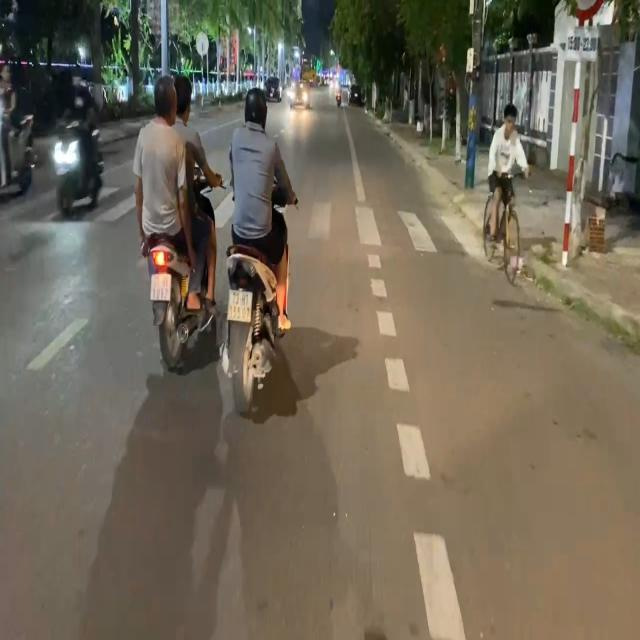walk-crossing: (38, 180, 500, 260)
